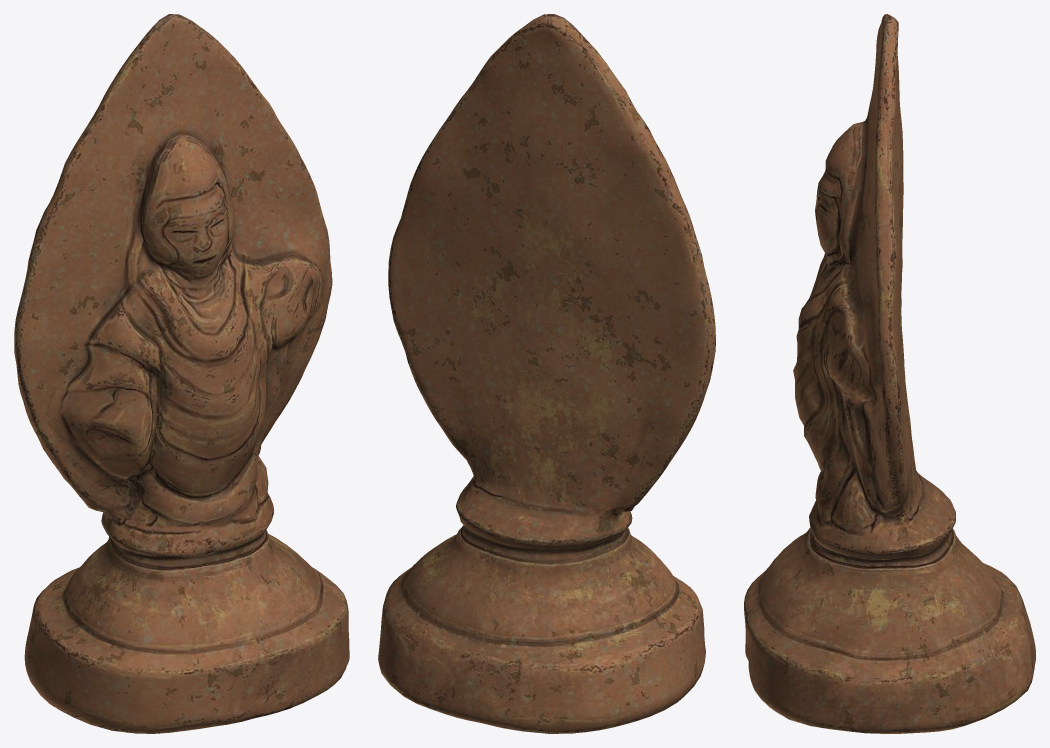
File: buddha.glb
3 views of the same model, side by side, from view 1: azimuth 30°, elevation 25°; view 2: azimuth 150°, elevation 25°; view 3: azimuth 270°, elevation 25° (orthographic).
Parts seen in each view (by area): view 1: SM_24RE0008_low_SM_24RE0008_low_0; view 2: SM_24RE0008_low_SM_24RE0008_low_0; view 3: SM_24RE0008_low_SM_24RE0008_low_0.
Part boxes in pixels (x1,y1,x2,y2): SM_24RE0008_low_SM_24RE0008_low_0: (14, 14, 349, 733); SM_24RE0008_low_SM_24RE0008_low_0: (378, 14, 715, 733); SM_24RE0008_low_SM_24RE0008_low_0: (744, 14, 1035, 733).
Size of the model in its own units: 0.0231 by 0.0458 by 0.0186.
Materials: 1 (1 with a texture image).
